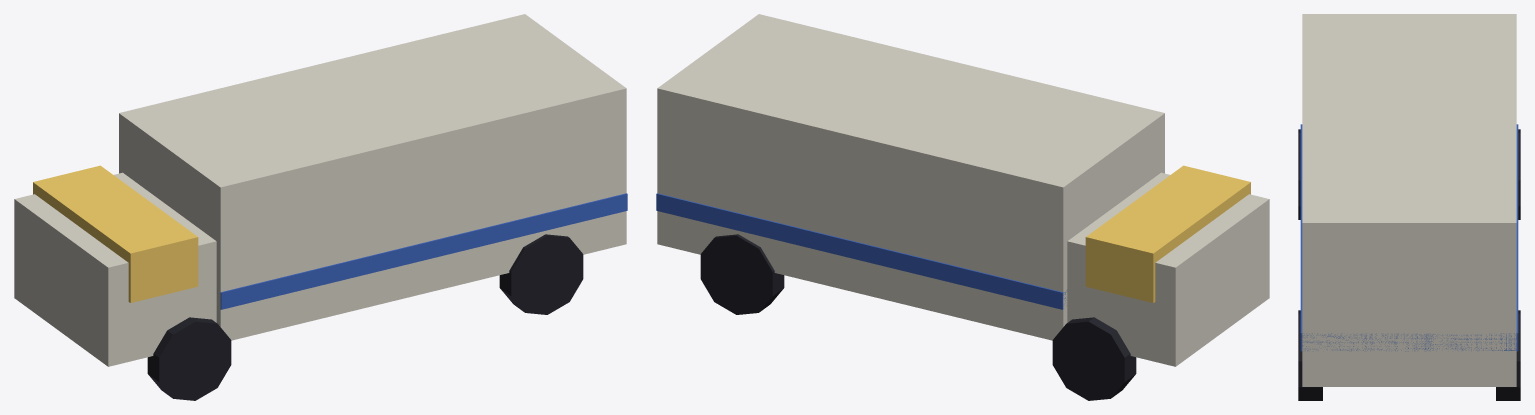
File: trailer_van.fbx
3 views of the same model, side by side, from view 1: azimuth 30°, elevation 25°; view 2: azimuth 150°, elevation 25°; view 3: azimuth 270°, elevation 25° (orthographic). The views are drawn at different scales.
Visible parts, largest first — view 1: trailer_van; view 2: trailer_van; view 3: trailer_van.
Part boxes in pixels (x1=…): trailer_van: x1=14, y1=14, x2=627, y2=400; trailer_van: x1=656, y1=14, x2=1269, y2=400; trailer_van: x1=1298, y1=14, x2=1520, y2=400.
Size of the model in its own units: 3.8 by 1.45 by 1.35.
